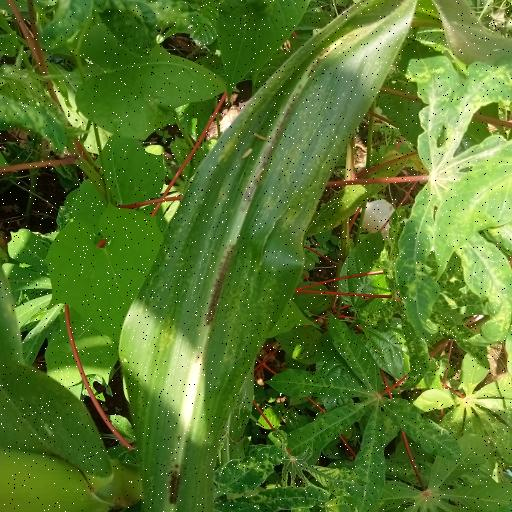Corn_Brown_Spots: (134, 0, 490, 504)
